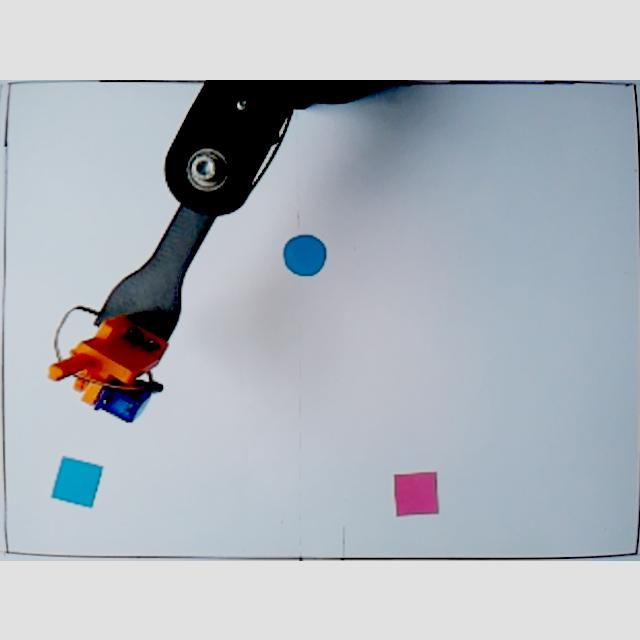blueCircle: (280, 231, 328, 279)
blueSquare: (48, 452, 106, 510)
pinkSquare: (393, 469, 441, 519)
